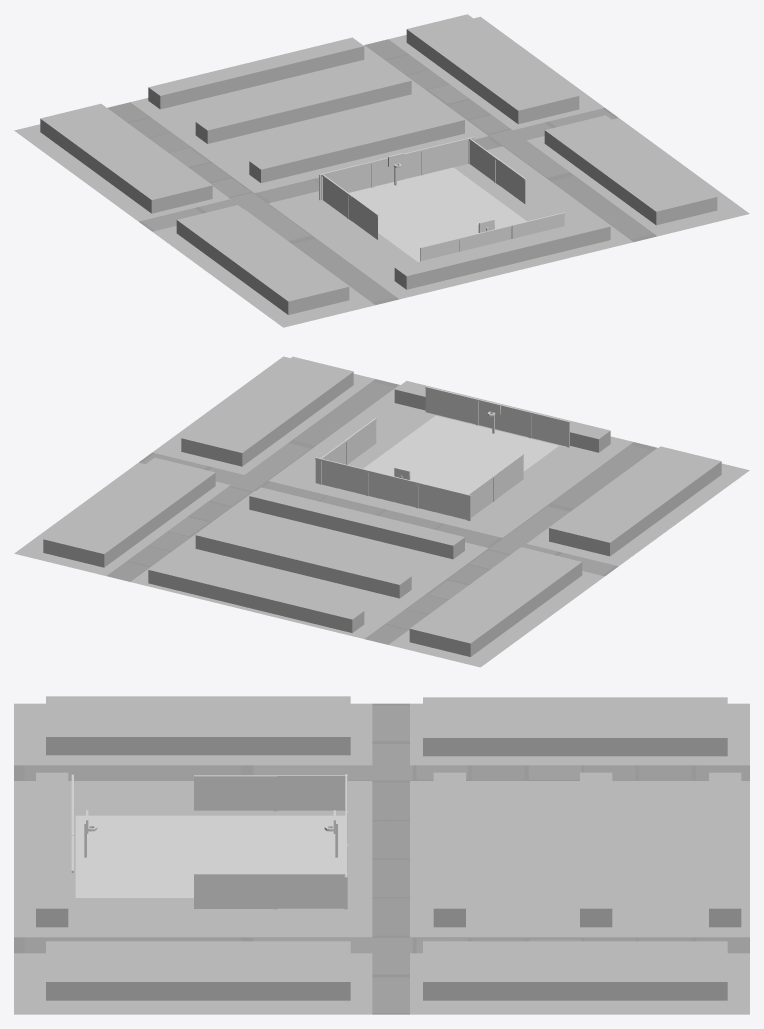
File: tile_poi_park_6x6_b_4.fbx
The picture shows the model from 3 angles, top to bottom: view 1: azimuth 30°, elevation 25°; view 2: azimuth 150°, elevation 25°; view 3: azimuth 270°, elevation 25°; orthographic projection. The views are drawn at different scales.
Visible parts, largest first — view 1: tile_park_6x6_b_4; view 2: tile_park_6x6_b_4; view 3: tile_park_6x6_b_4.
Part boxes in pixels (<box>): tile_park_6x6_b_4: <box>14,14,749,327</box>; tile_park_6x6_b_4: <box>14,356,749,667</box>; tile_park_6x6_b_4: <box>14,696,749,1014</box>.
Bounding box in the file's own units: 9600 × 604 × 9600.
